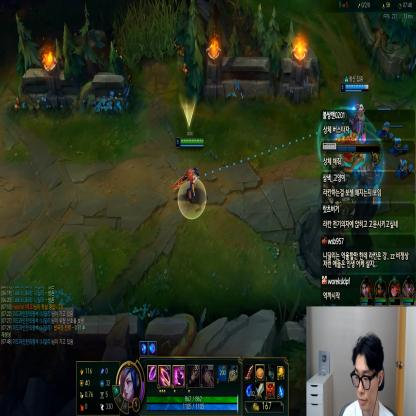streamer: (342, 331, 393, 416)
